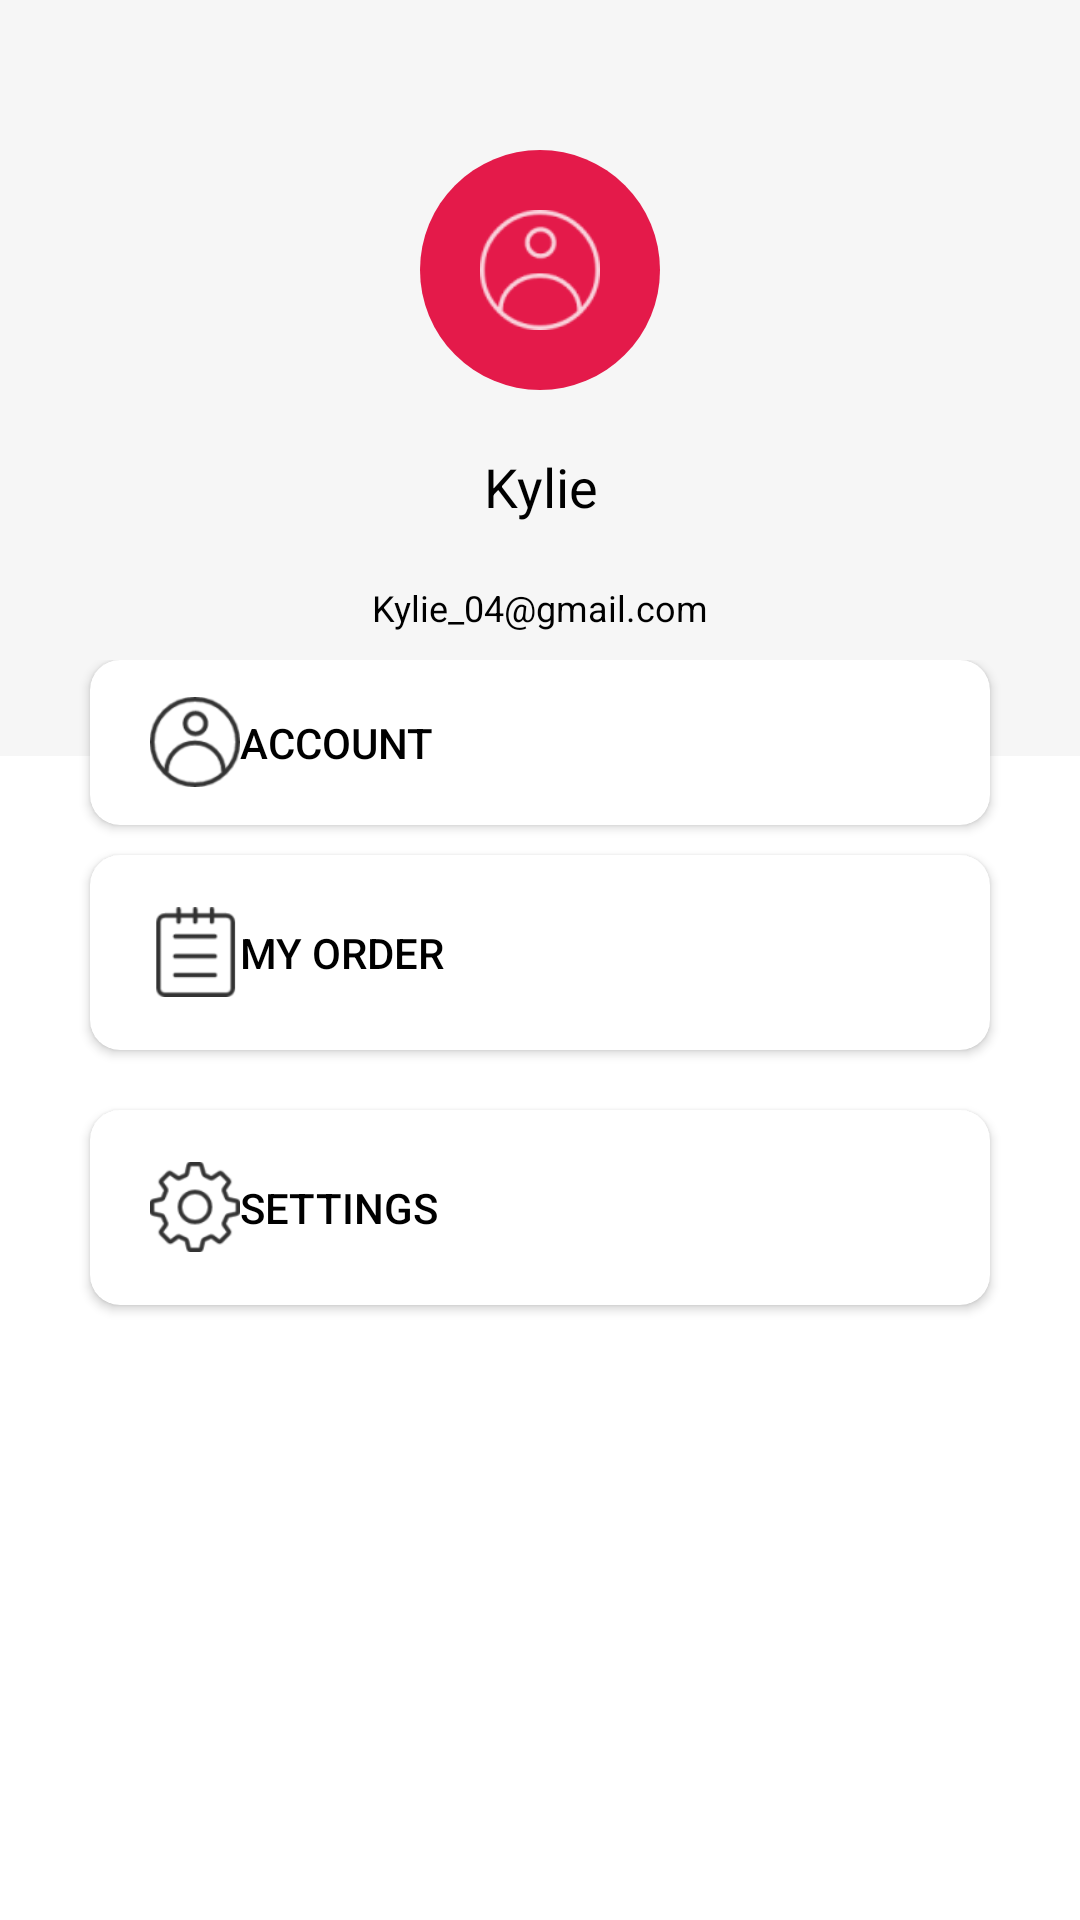

Icons on this 1080×1920 Android screen, each with the point to tap as point (x, y):
orders: point (195, 952)
profile: point (540, 270)
profile iconblack: point (195, 742)
